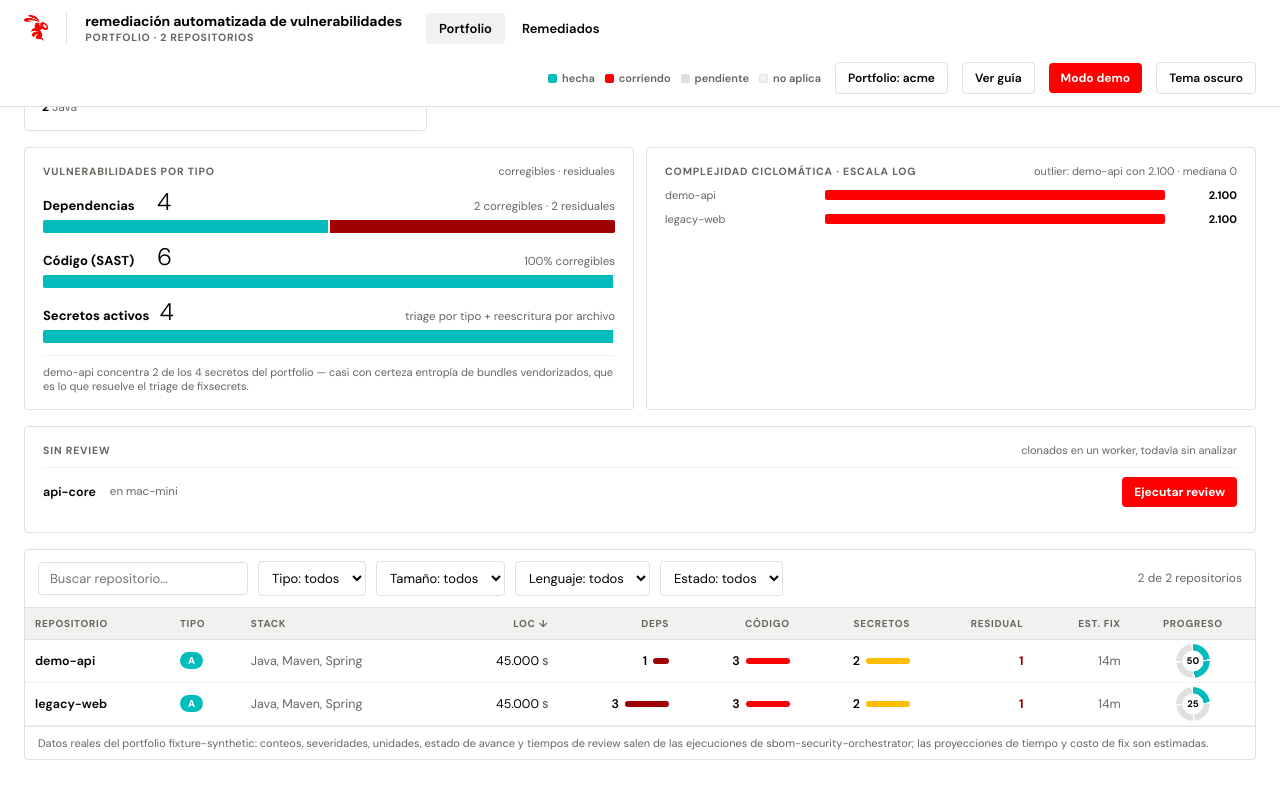
Test: disparo del review › crea un job de review y lo muestra en cola
(page scrolled)
Expected: the field with placeholder "Buscar repositorio…" is shown, [38, 562, 248, 595]
Click the button "Ejecutar review" at (1180, 492), box [1122, 477, 1237, 507]
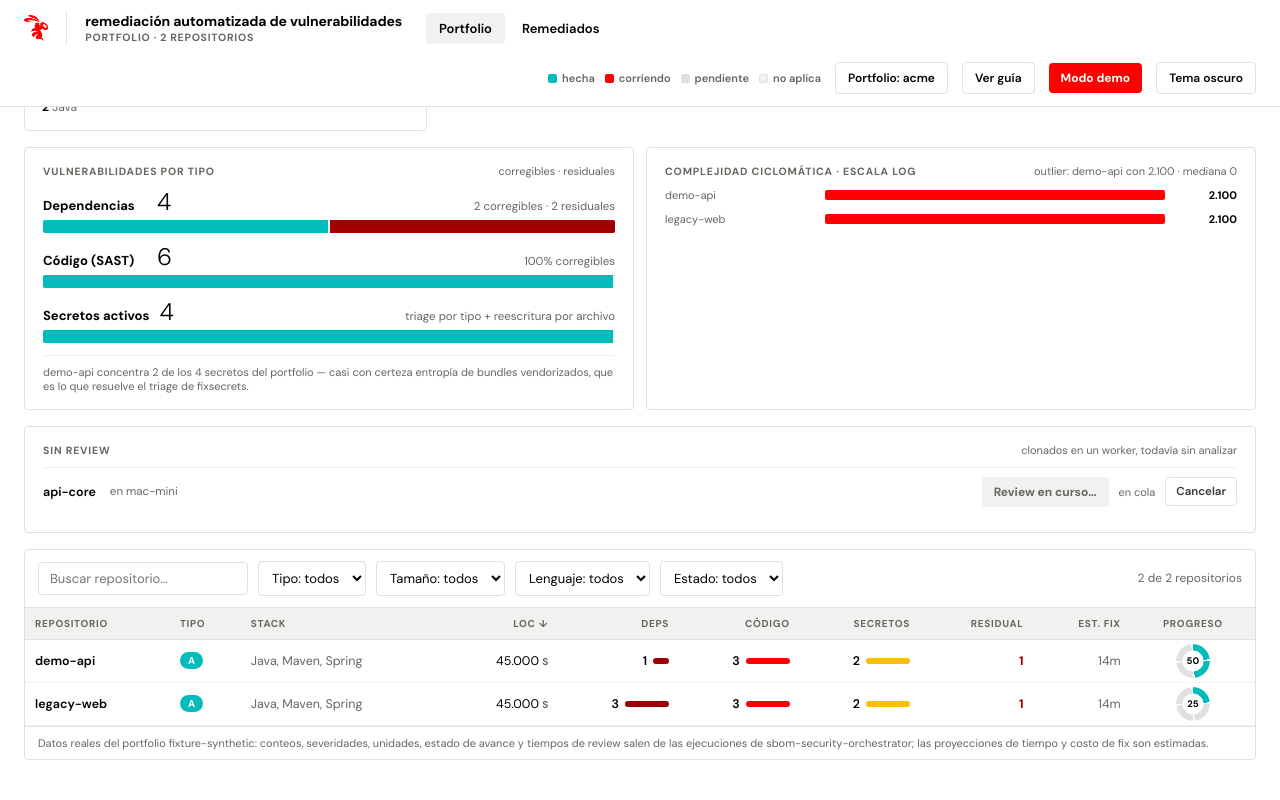
Result: the text "en cola" is shown at [1118, 485, 1155, 499]
Result: the button "Cancelar" is shown at [1165, 477, 1237, 506]
